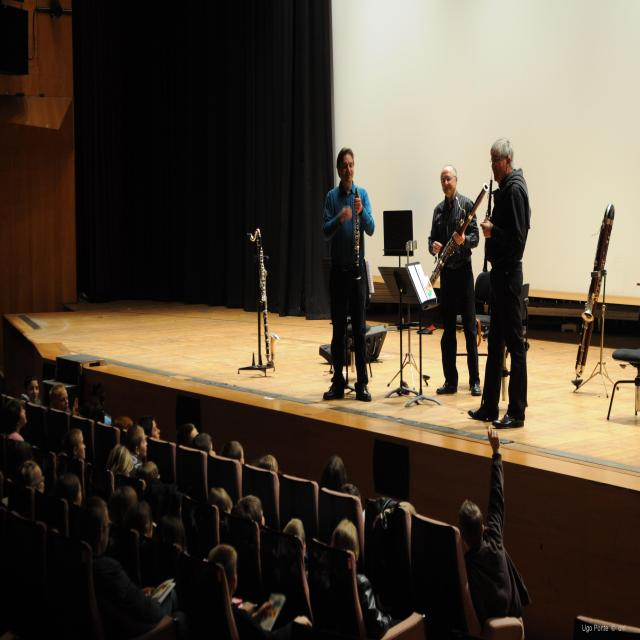clarinet: (353, 189, 363, 283)
saxophone: (246, 226, 282, 370)
